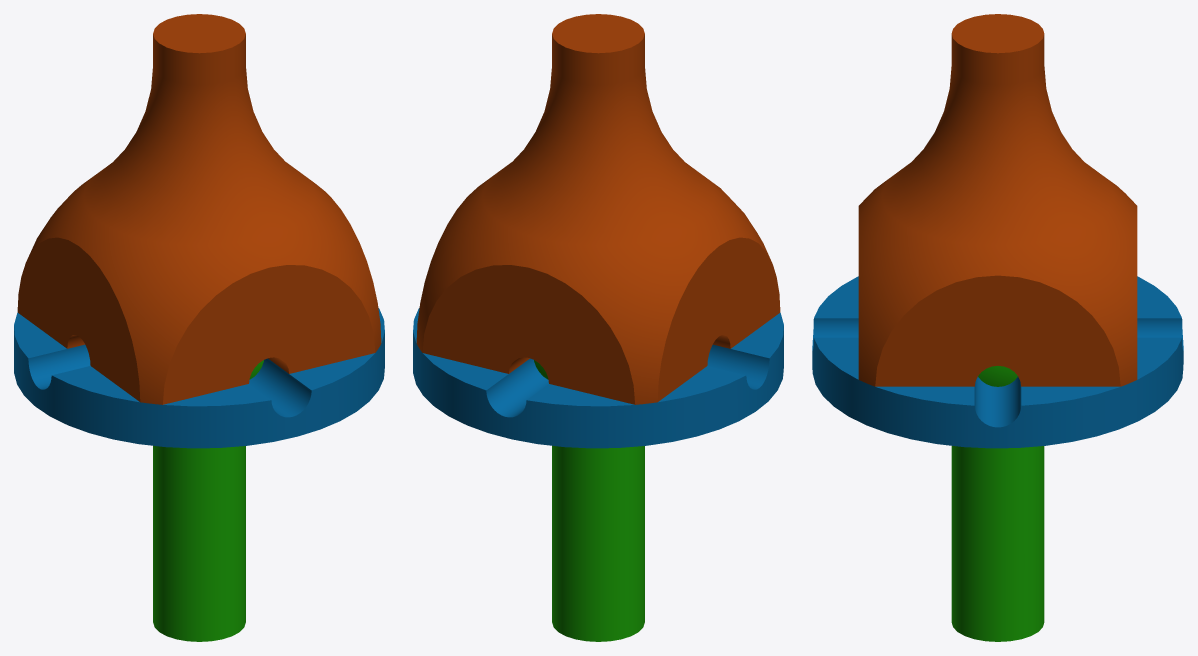
File: assembly.glb
3 renders of one model, left to right at view 1: azimuth 30°, elevation 25°; view 2: azimuth 150°, elevation 25°; view 3: azimuth 270°, elevation 25°, orthographic.
Visible parts, largest first — view 1: Body2, Body7, Body1; view 2: Body2, Body7, Body1; view 3: Body2, Body7, Body1.
Part boxes in pixels (x1,y1,x2,y2): Body2: (17, 14, 381, 404); Body7: (14, 308, 384, 448); Body1: (153, 360, 263, 641); Body2: (416, 14, 780, 404); Body7: (413, 308, 783, 448); Body1: (534, 360, 644, 641); Body2: (858, 14, 1137, 386); Body7: (812, 276, 1183, 448); Body1: (951, 366, 1044, 641).
Bounding box in the file's own units: 0.04 × 0.07 × 0.04.
